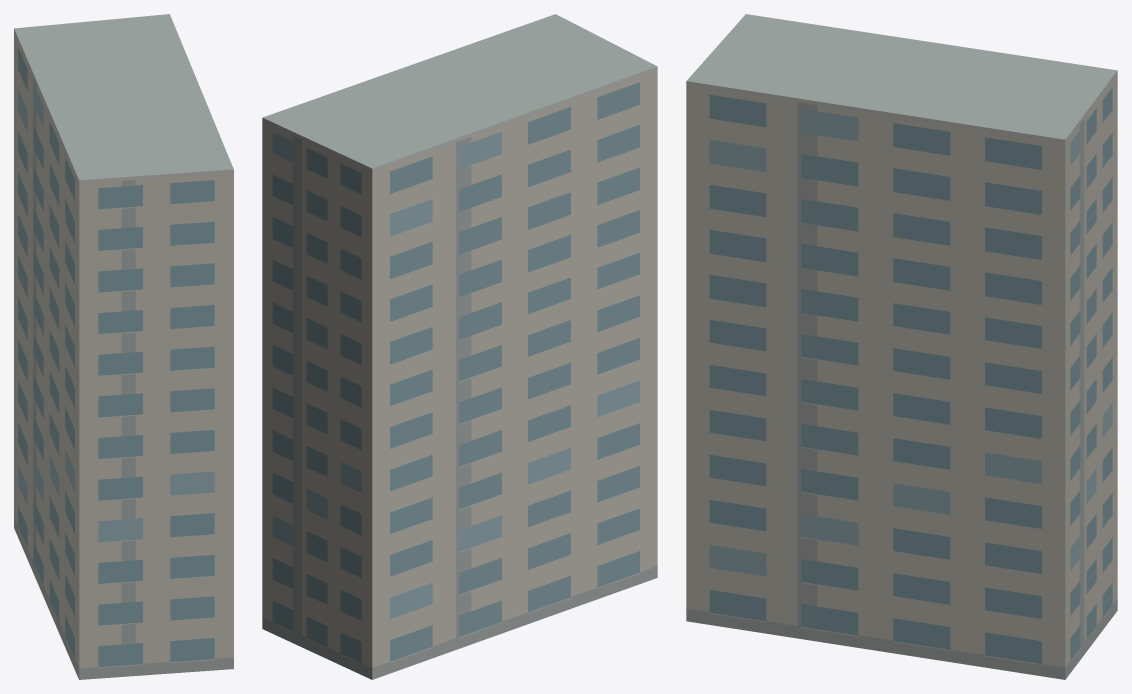
File: residential-aeda8112-864c-4a4e-8491-a410303b29da.glb
3 views of the same model, side by side, from view 1: azimuth 30°, elevation 25°; view 2: azimuth 150°, elevation 25°; view 3: azimuth 270°, elevation 25° (orthographic). The views are drawn at different scales.
Parts seen in each view (by area): view 1: residential-aeda8112-864c-4a4e-8491-a410303b29da.tmp; view 2: residential-aeda8112-864c-4a4e-8491-a410303b29da.tmp; view 3: residential-aeda8112-864c-4a4e-8491-a410303b29da.tmp.
Boxes of the visible parts, bbox=[...] form: residential-aeda8112-864c-4a4e-8491-a410303b29da.tmp: bbox=[14, 14, 233, 679]; residential-aeda8112-864c-4a4e-8491-a410303b29da.tmp: bbox=[262, 14, 657, 679]; residential-aeda8112-864c-4a4e-8491-a410303b29da.tmp: bbox=[686, 14, 1117, 679].
Bounding box in the file's own units: 16.99 × 34 × 24.61.
